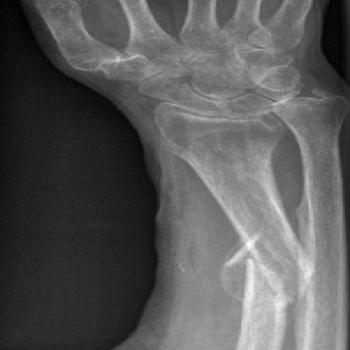Fracture: (232, 250, 322, 300)
